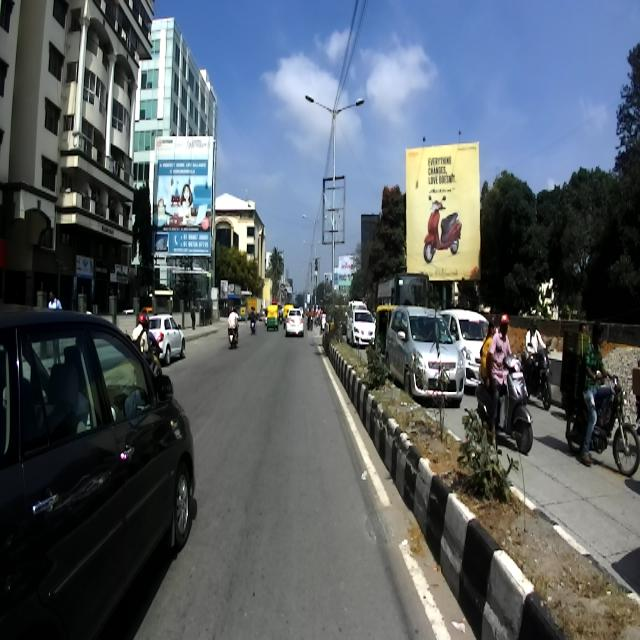car ahead at: (4, 306, 200, 640)
